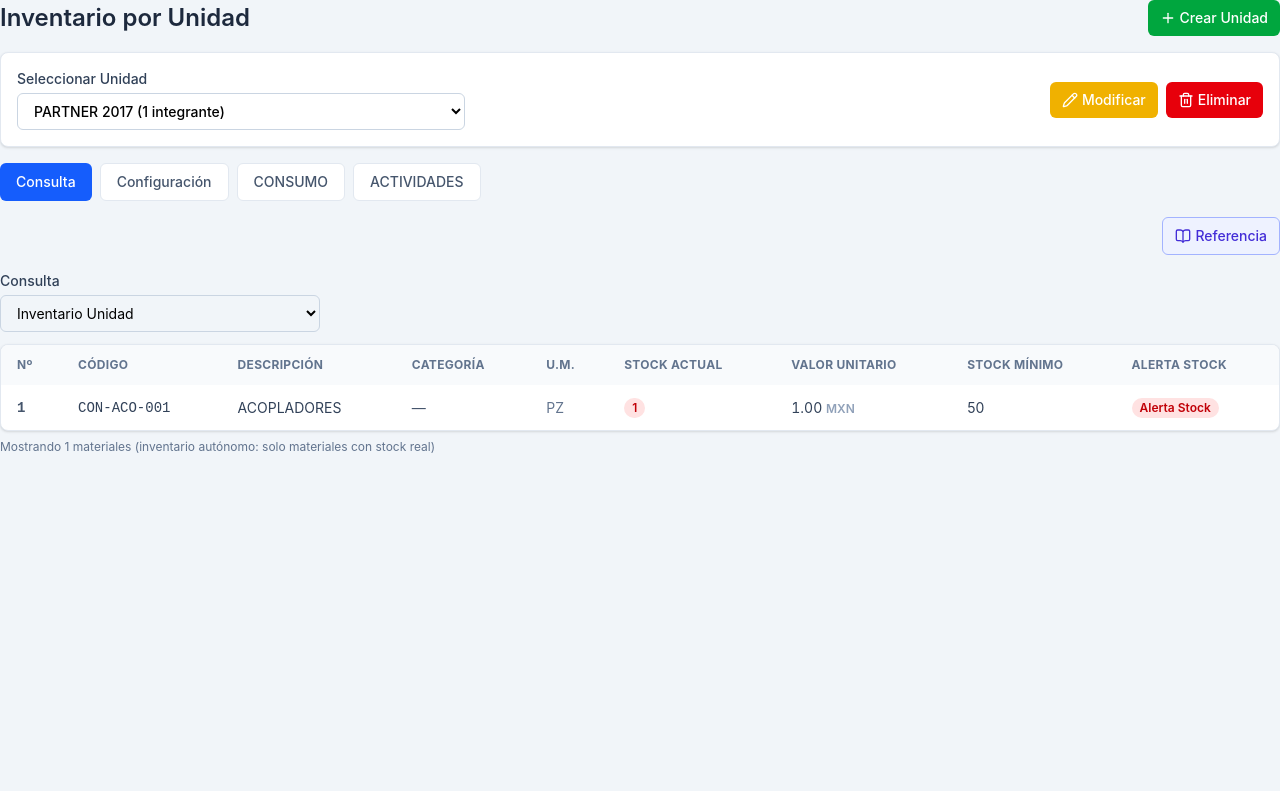
Scenario: cambio de Unidad (REQ-REF-004) › el panel conserva su estado abierto, recarga la nueva Unidad y descarta el formulario
Click the button "Configuración" at (164, 182), box [100,163,228,201]
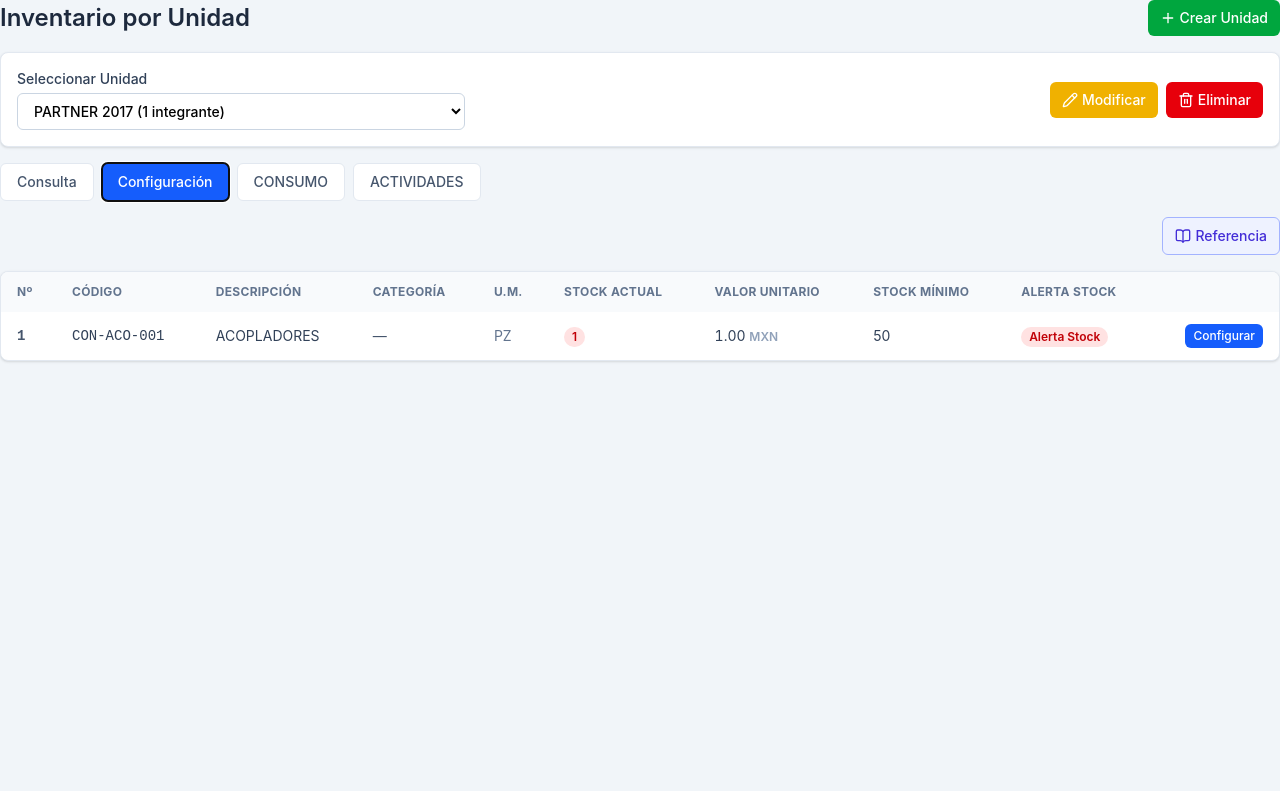
Click the button "Referencia" at (1221, 236), box [1162,217,1279,255]
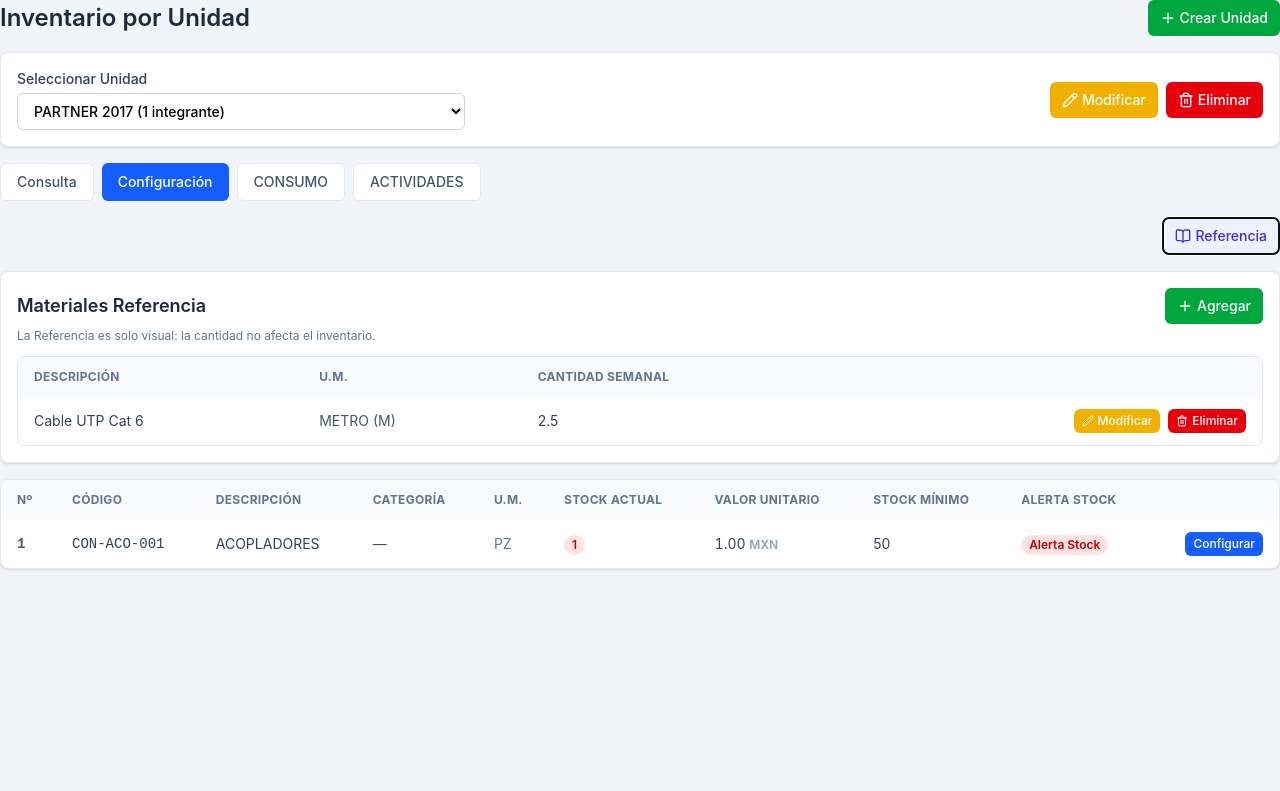
Expected: the text "Cable UTP Cat 6" is shown, [18,397,303,445]
Click the button "Agregar" at (1214, 306), box [1165,288,1263,324]
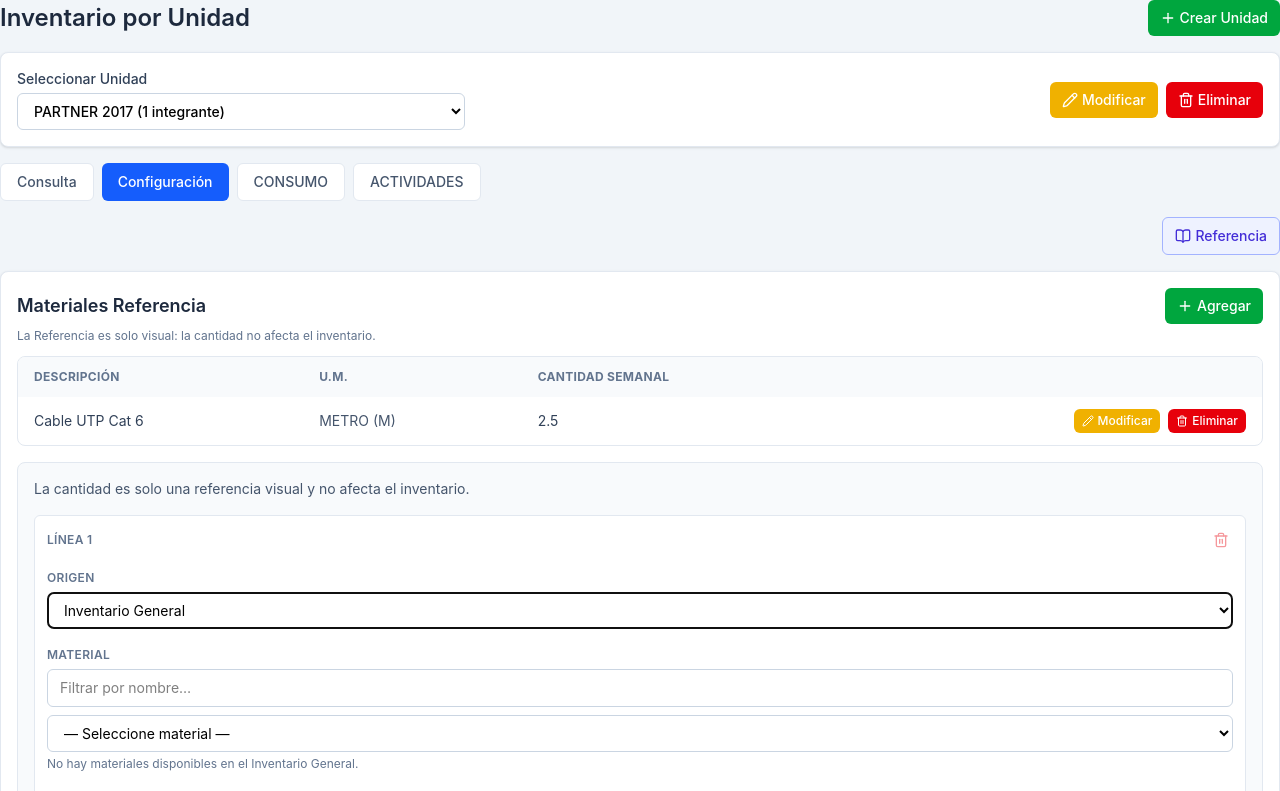
Select "PARTNER 2018 (0 integrantes)" in the dropdown labelled "Seleccionar Unidad" at (241, 112), box [17,93,465,130]
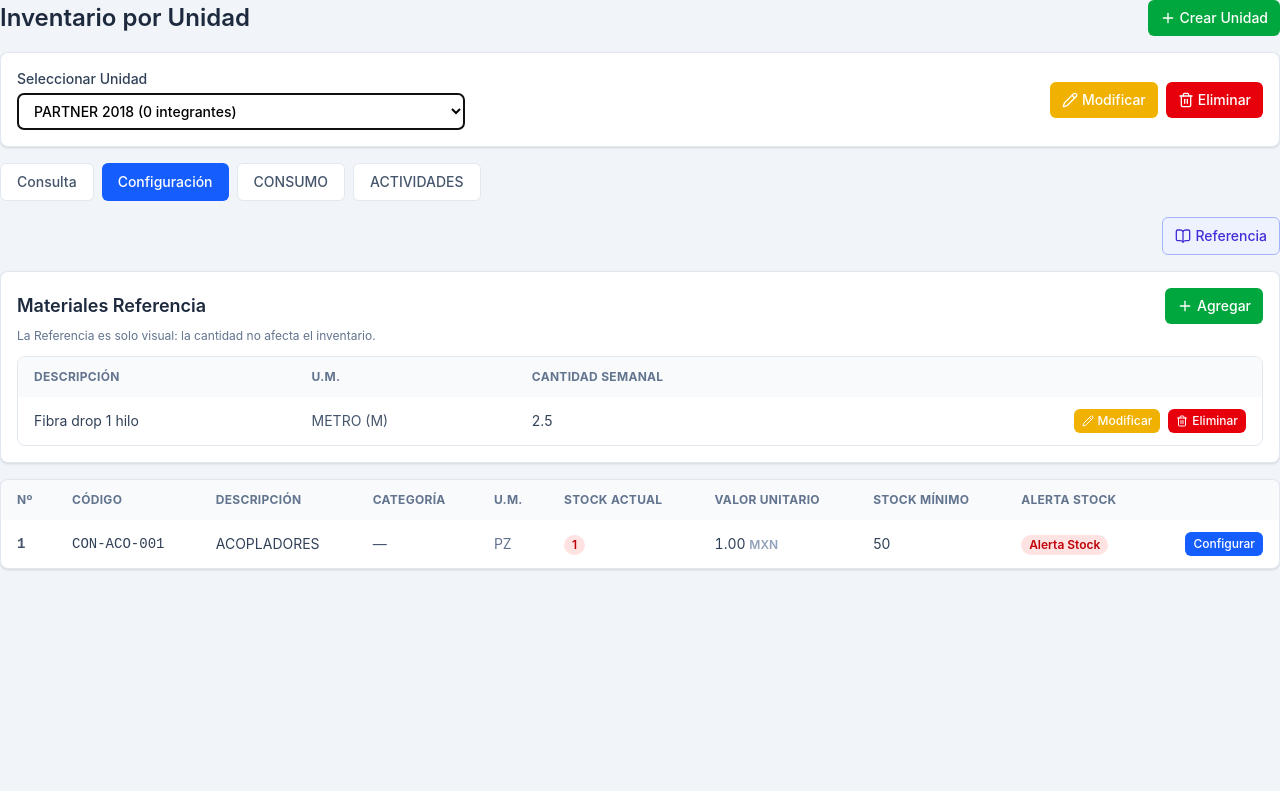
Expected: the text "Fibra drop 1 hilo" is shown, [18,397,296,445]
Expected: the text "Cable UTP Cat 6" is gone
